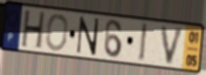6: (103, 19, 124, 61)
H: (20, 9, 47, 51)
I: (137, 21, 149, 64)
N: (75, 15, 101, 57)
O: (44, 13, 70, 53)
V: (159, 25, 186, 68)
